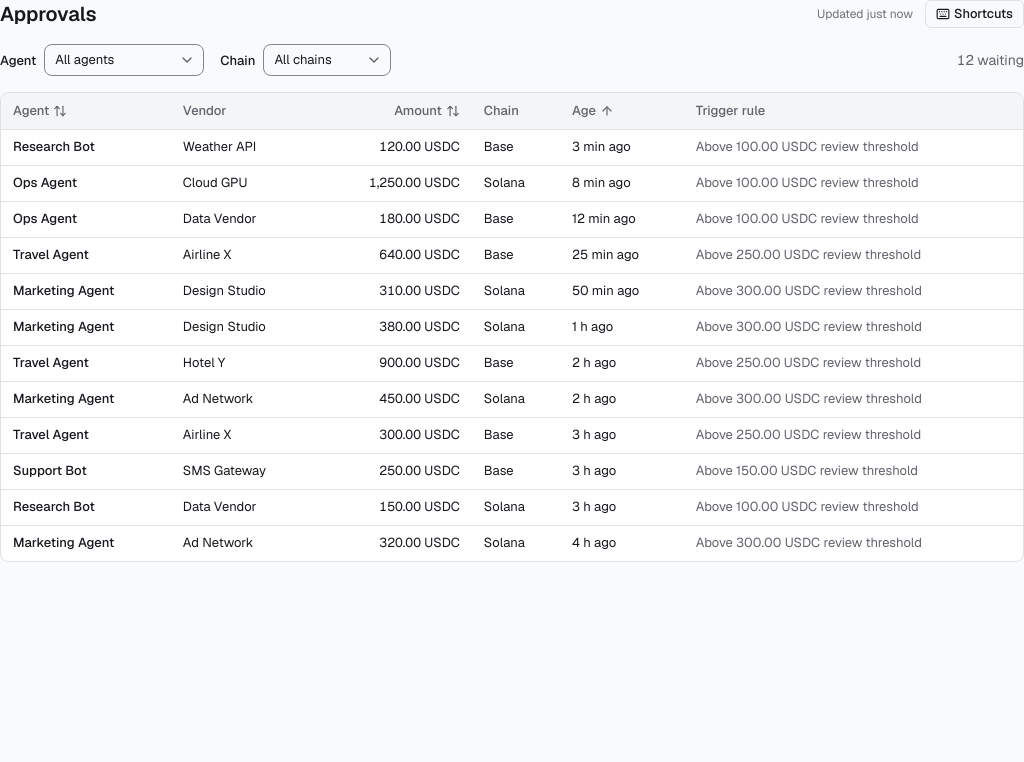
Test: ApprovalQueue: approve above 1,000.00 USDC › rolls back when the confirmed request fails
Click the row "Cloud GPU" at (512, 183), box top-left (1, 165), bottom-right (1023, 201)
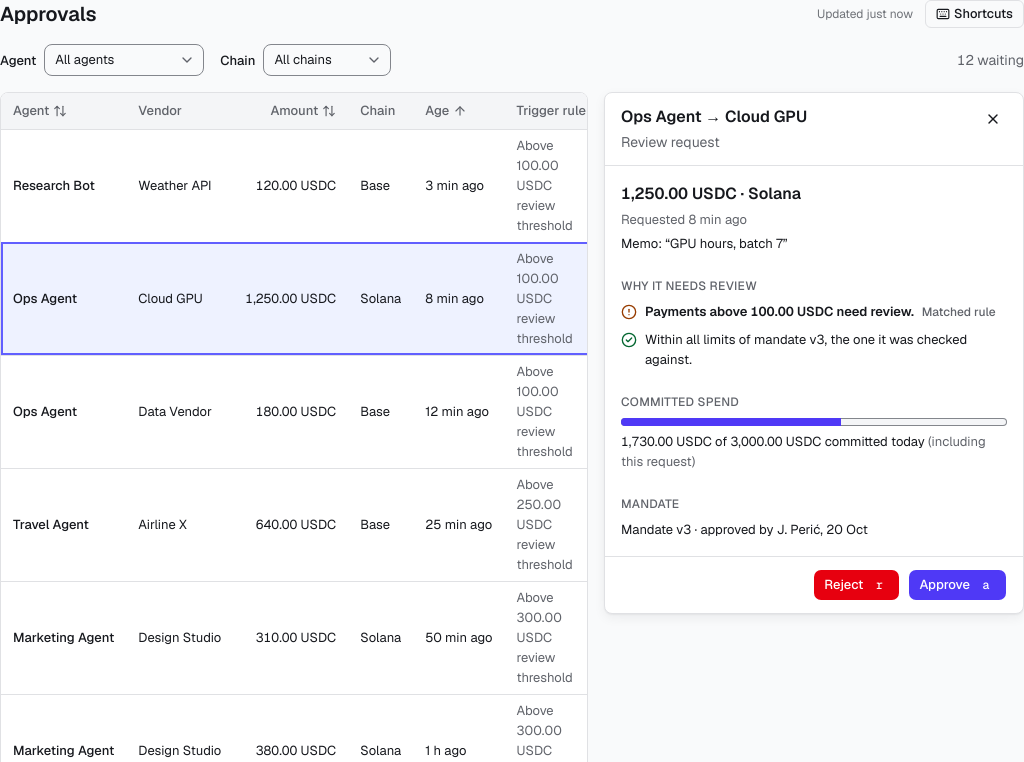
Click the button "Approve a" at (958, 585), box top-left (908, 569), bottom-right (1007, 601)
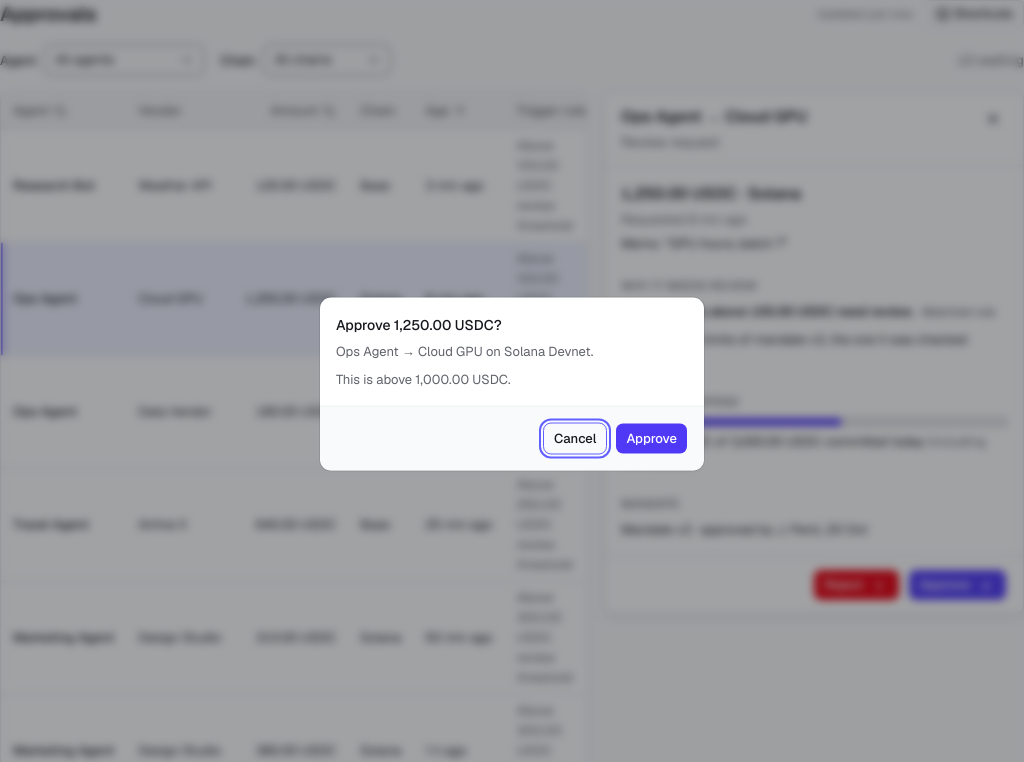
Click the button "Approve" at (652, 438), box top-left (615, 422), bottom-right (688, 454)
(page scrolled)
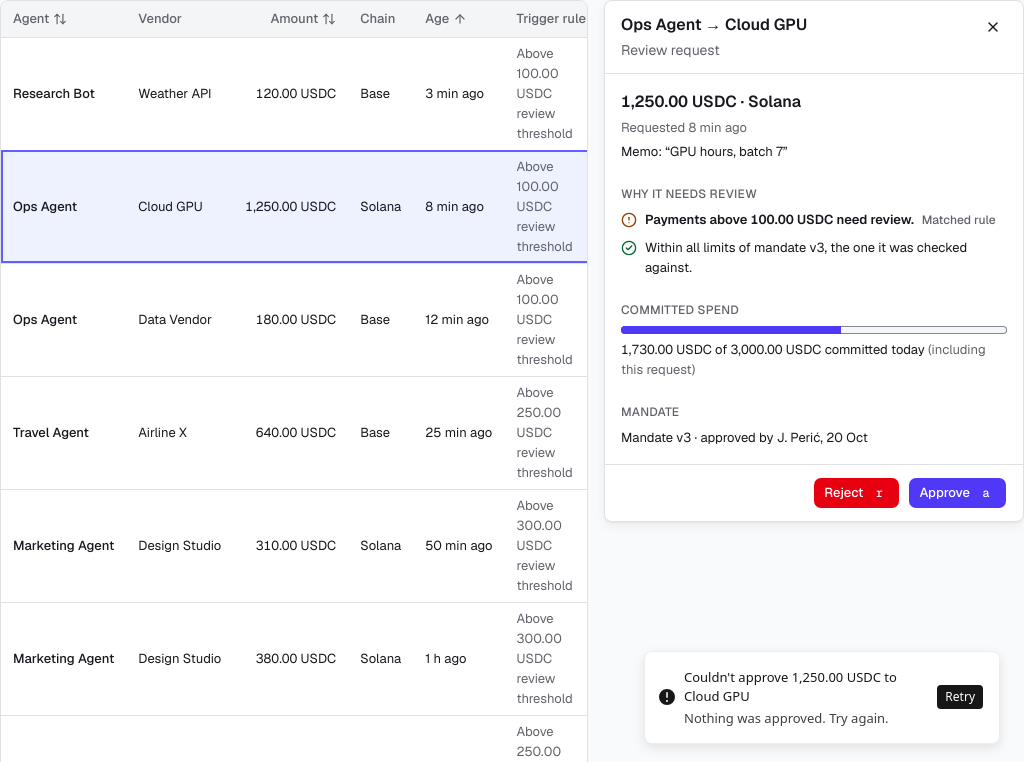
Result: the text "Couldn't approve 1,250.00 USDC to Cloud GPU" is shown at top-left (684, 668), bottom-right (931, 707)
